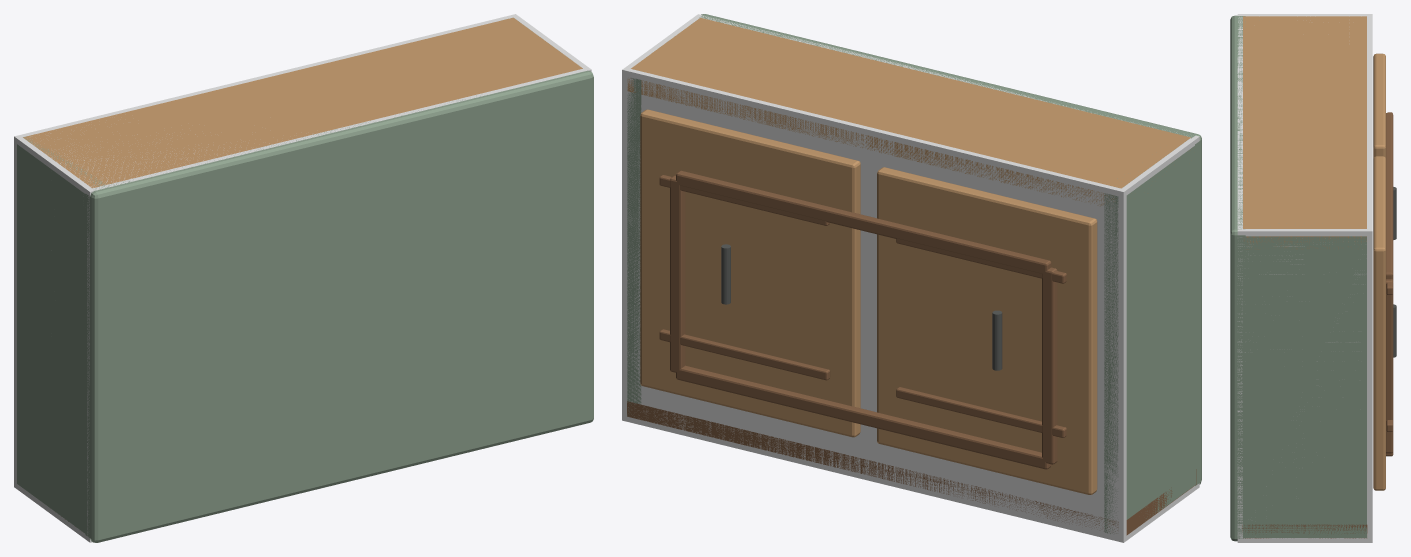
File: premium.glb
3 views of the same model, side by side, from view 1: azimuth 30°, elevation 25°; view 2: azimuth 150°, elevation 25°; view 3: azimuth 270°, elevation 25° (orthographic). The views are drawn at different scales.
Visible parts, largest first — view 1: Cabinet_Back.002, Cabinet_Top.002, Cabinet_Side.004, COL_WALL_CABINETS_PREMIUM; view 2: COL_WALL_CABINETS_PREMIUM, Cabinet_Door_-1.002, Cabinet_Door_1.002, Cabinet_Top.002, Cabinet_Side.004, Cabinet_Bottom.002, Cabinet_TrimBottom, Cabinet_TrimTop, Cabinet_Back.002, Cabinet_Side.005, Cabinet_TrimLeft, Cabinet_TrimRight (+4 smaller); view 3: Cabinet_Side.005, Cabinet_Top.002, COL_WALL_CABINETS_PREMIUM, Cabinet_Back.002, Cabinet_Door_1.002, Cabinet_Door_-1.002, Cabinet_TrimTop, Cabinet_TrimRight, Cabinet_Bottom.002.
Part boxes in pixels (bbox=[...]): Cabinet_Back.002: bbox=[85, 70, 593, 542]; Cabinet_Top.002: bbox=[23, 17, 582, 188]; Cabinet_Side.004: bbox=[17, 137, 105, 534]; COL_WALL_CABINETS_PREMIUM: bbox=[14, 14, 591, 542]; COL_WALL_CABINETS_PREMIUM: bbox=[622, 14, 1199, 542]; Cabinet_Door_-1.002: bbox=[877, 167, 1097, 494]; Cabinet_Door_1.002: bbox=[640, 109, 860, 437]; Cabinet_Top.002: bbox=[627, 18, 1190, 206]; Cabinet_Side.004: bbox=[1104, 141, 1196, 533]; Cabinet_Bottom.002: bbox=[627, 401, 1196, 535]; Cabinet_TrimBottom: bbox=[676, 365, 1051, 469]; Cabinet_TrimTop: bbox=[676, 170, 1051, 273]; Cabinet_Back.002: bbox=[699, 14, 1201, 485]; Cabinet_Side.005: bbox=[627, 24, 691, 416]; Cabinet_TrimLeft: bbox=[1042, 267, 1057, 464]; Cabinet_TrimRight: bbox=[670, 175, 685, 372]; Cabinet_Side.005: bbox=[1243, 236, 1366, 537]; Cabinet_Top.002: bbox=[1243, 16, 1366, 249]; COL_WALL_CABINETS_PREMIUM: bbox=[1237, 14, 1372, 542]; Cabinet_Back.002: bbox=[1230, 15, 1245, 541]; Cabinet_Door_1.002: bbox=[1373, 156, 1385, 490]; Cabinet_Door_-1.002: bbox=[1373, 53, 1385, 158]; Cabinet_TrimTop: bbox=[1386, 113, 1393, 279]; Cabinet_TrimRight: bbox=[1386, 279, 1393, 453]; Cabinet_Bottom.002: bbox=[1242, 524, 1367, 538].
Size of the model in its own units: 1.43 by 0.9522 by 0.461.
